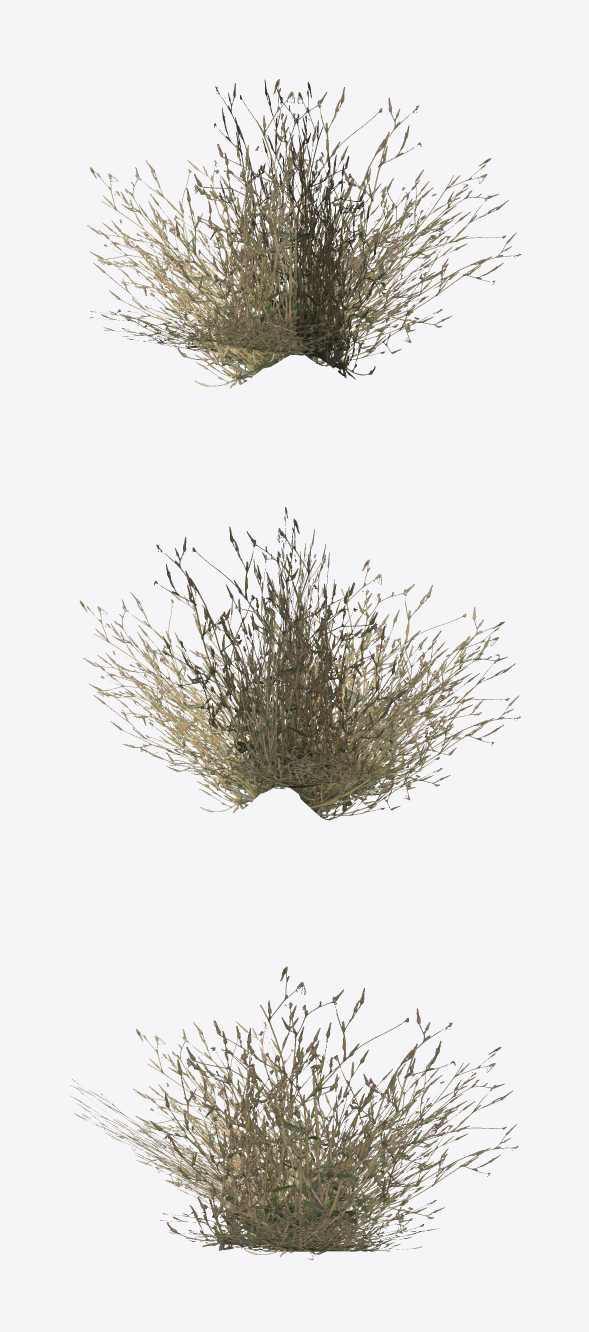
The model's file is bush4.FBX.
3 views of the same model, one above another, from view 1: azimuth 30°, elevation 25°; view 2: azimuth 150°, elevation 25°; view 3: azimuth 270°, elevation 25° (orthographic). The views are drawn at different scales.
Visible parts, largest first — view 1: Box001; view 2: Box001; view 3: Box001.
Part boxes in pixels (x1,y1,x2,y2): Box001: (87,79,521,388); Box001: (79,507,520,820); Box001: (69,966,518,1260).
Size of the model in its own units: 6.07 by 3.51 by 6.16.
